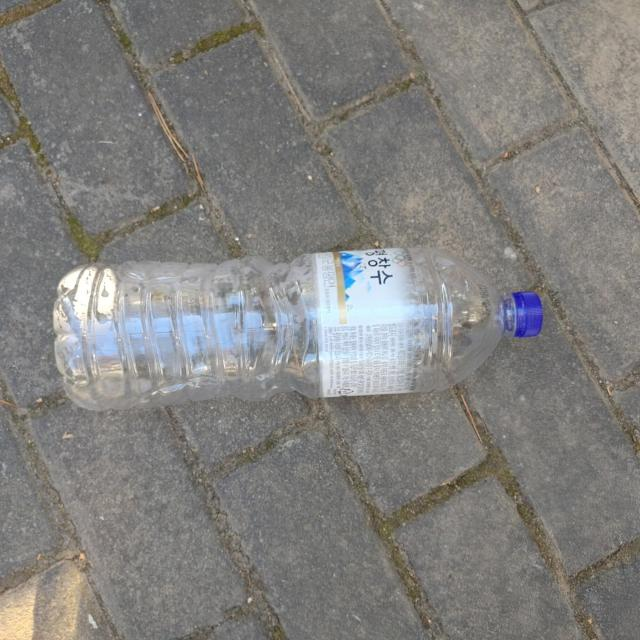plastic: (53, 248, 543, 411)
